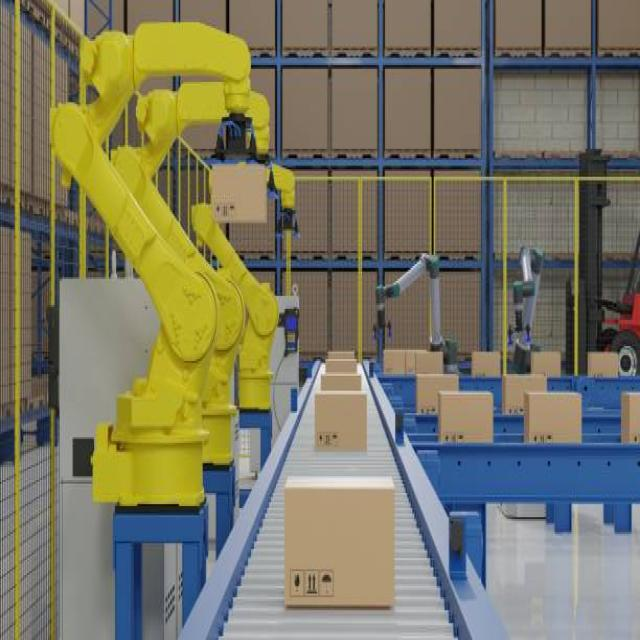Robotic-arm: (49, 18, 265, 528), (140, 80, 280, 404), (196, 198, 282, 404), (374, 242, 449, 357), (503, 226, 548, 365)
